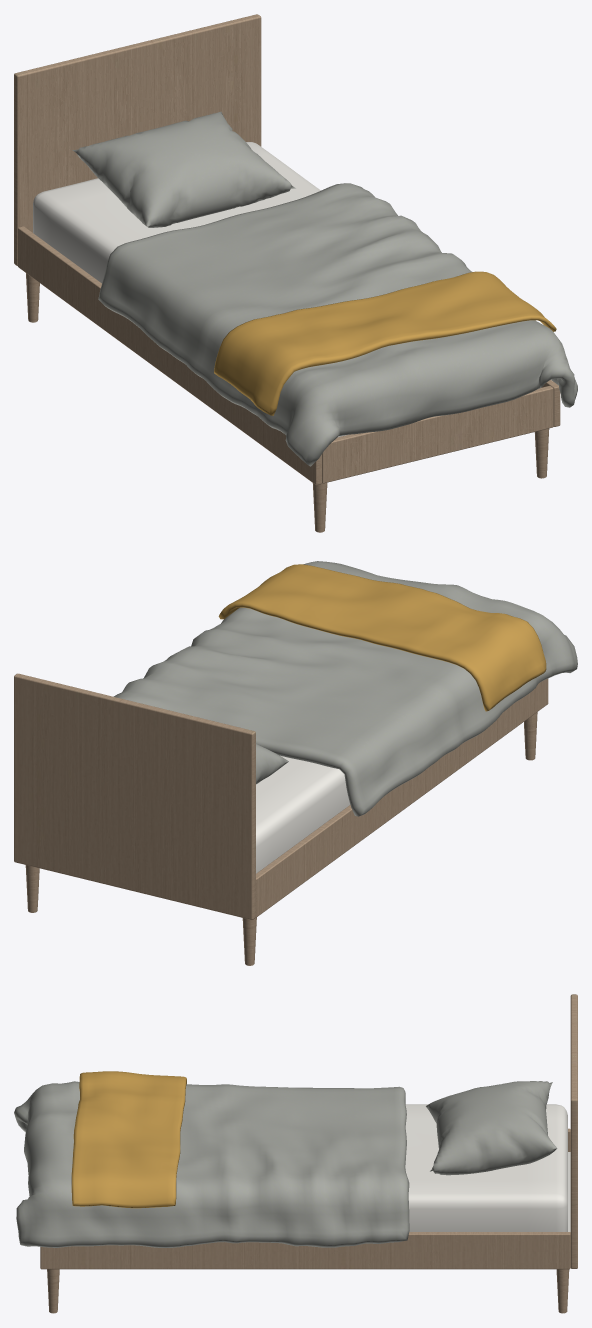
File: bed_90_oak.glb
The picture shows the model from 3 angles, top to bottom: view 1: azimuth 30°, elevation 25°; view 2: azimuth 150°, elevation 25°; view 3: azimuth 270°, elevation 25°; orthographic projection. The views are drawn at different scales.
Visible parts, largest first — view 1: bed_soft, bed_hard; view 2: bed_soft, bed_hard; view 3: bed_soft, bed_hard.
Boxes of the visible parts, box(x1,y1,x2,y2) form: bed_soft: box(33, 111, 577, 466); bed_hard: box(14, 14, 560, 532); bed_soft: box(114, 561, 577, 873); bed_hard: box(14, 673, 548, 965); bed_soft: box(14, 1071, 567, 1247); bed_hard: box(40, 994, 577, 1313).
Size of the model in its own units: 1.16 by 0.9199 by 2.17.
Materials: 5 (2 with a texture image).
